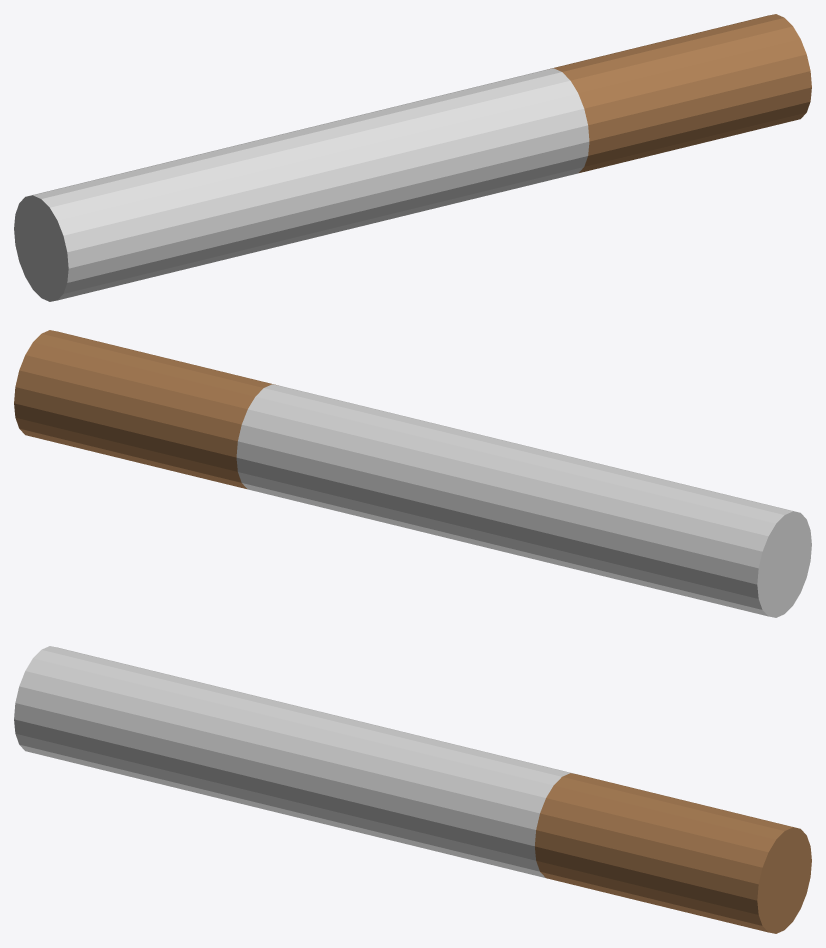
File: tinker.obj
3 views of the same model, one above another, from view 1: azimuth 30°, elevation 25°; view 2: azimuth 150°, elevation 25°; view 3: azimuth 330°, elevation 25° (orthographic).
Visible parts, largest first — view 1: group_0_16448250, group_0_11107152; view 2: group_0_16448250, group_0_11107152; view 3: group_0_16448250, group_0_11107152.
Boxes of the visible parts, bbox=[...] form: group_0_16448250: bbox=[14, 68, 589, 301]; group_0_11107152: bbox=[550, 14, 811, 173]; group_0_16448250: bbox=[236, 384, 811, 617]; group_0_11107152: bbox=[14, 330, 275, 489]; group_0_16448250: bbox=[14, 646, 573, 877]; group_0_11107152: bbox=[534, 773, 811, 933].
Bounding box in the file's own units: 157 × 20 × 20.
